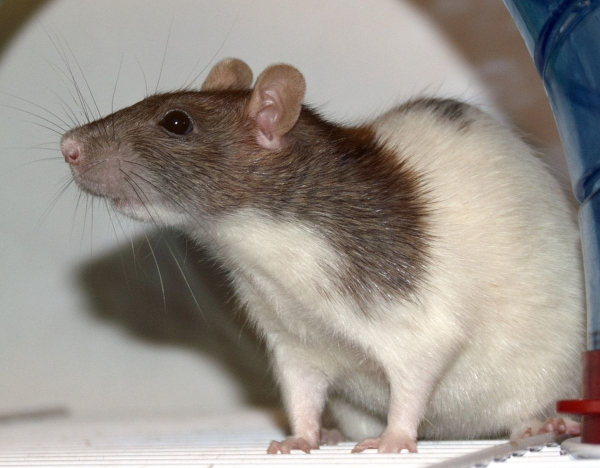rat: (29, 39, 518, 461)
